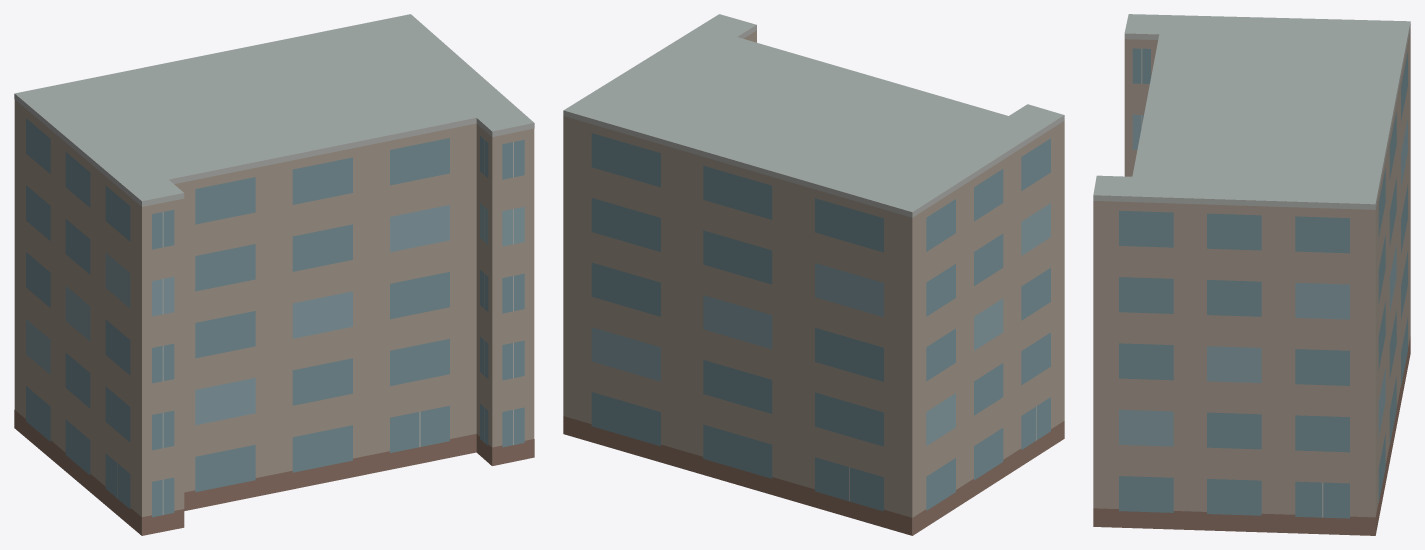
The model's file is survey-upis-32870392.glb.
3 renders of one model, left to right at view 1: azimuth 30°, elevation 25°; view 2: azimuth 150°, elevation 25°; view 3: azimuth 270°, elevation 25°, orthographic. The views are drawn at different scales.
Visible parts, largest first — view 1: survey-upis-32870392.tmp; view 2: survey-upis-32870392.tmp; view 3: survey-upis-32870392.tmp.
Boxes of the visible parts, x1,y1,x2,y2 form: survey-upis-32870392.tmp: (14,14,534,535); survey-upis-32870392.tmp: (563,14,1064,535); survey-upis-32870392.tmp: (1093,14,1410,535).
Bounding box in the file's own units: 17.73 × 14.4 × 12.5.
